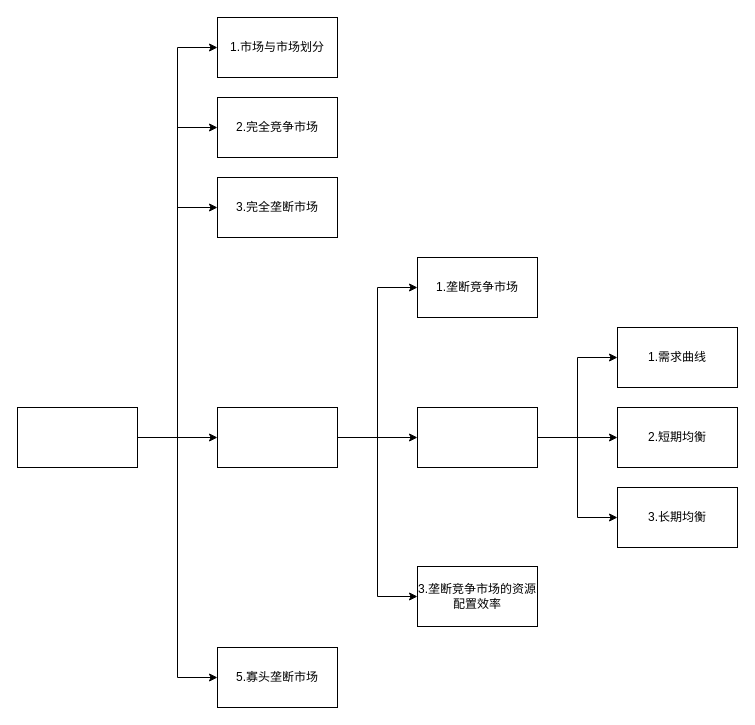
Image size: 755x725. Some labels were removed from this diagram. Each missing label, with the centre of its shape:
"2.垄断竞争厂商的利润最大化" belongs at point (477, 437).
"4.垄断竞争市场" belongs at point (277, 437).
"市场结构理论" belongs at point (77, 437).
